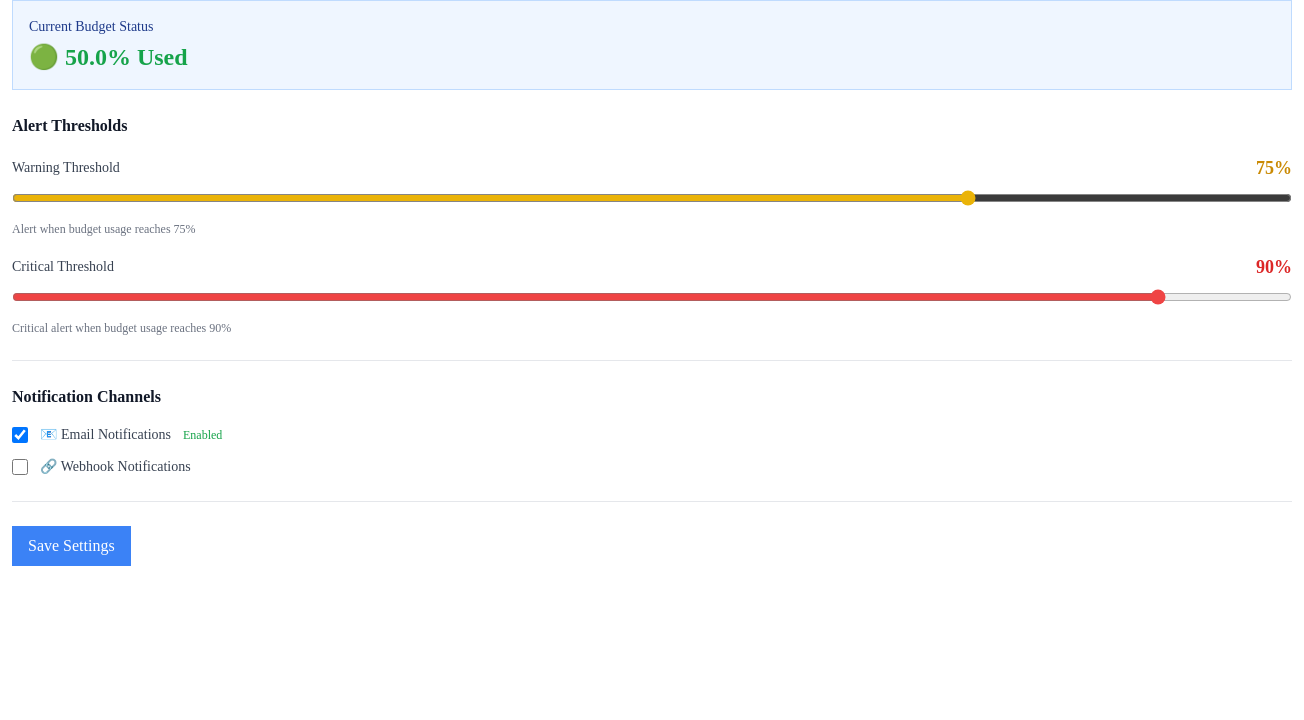
Test: Budget Components › BudgetAlertSettings › shows save button and success message
Click the button "Save Settings".
click(71, 546)  # box [12, 526, 131, 566]
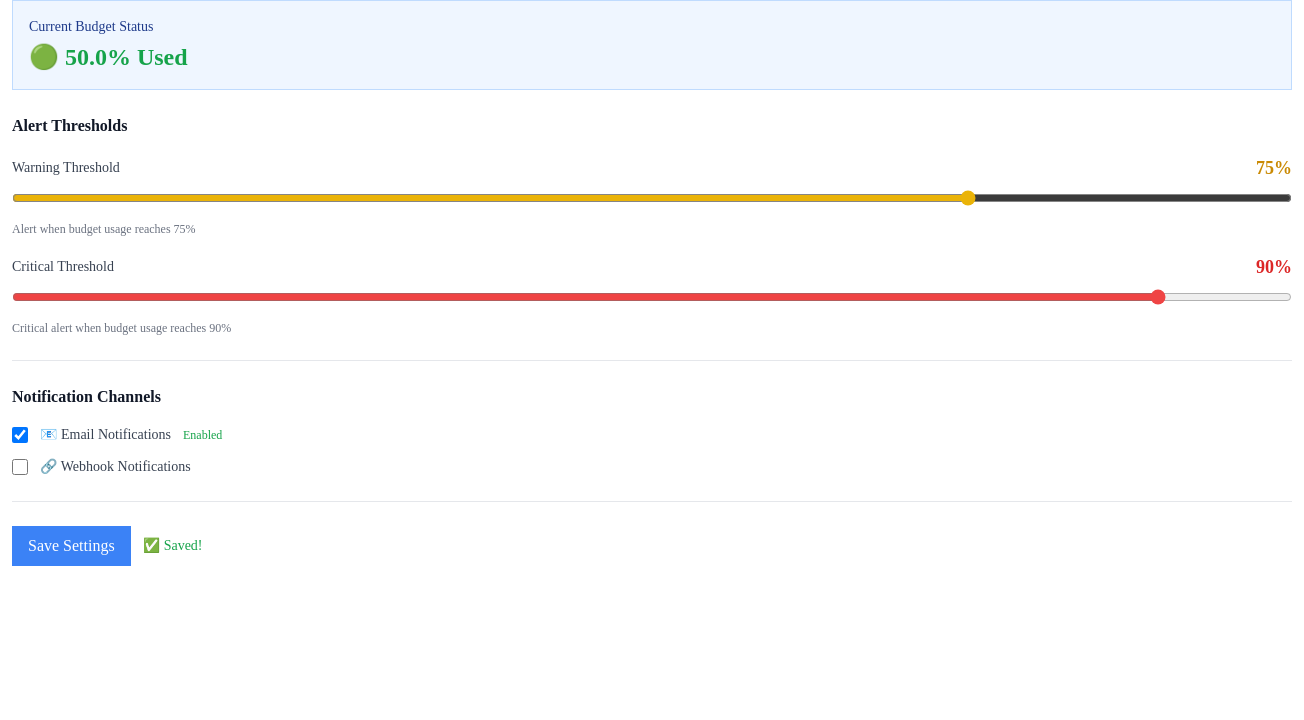
expect the text "✅ Saved!" is shown: met, box [143, 538, 203, 553]
